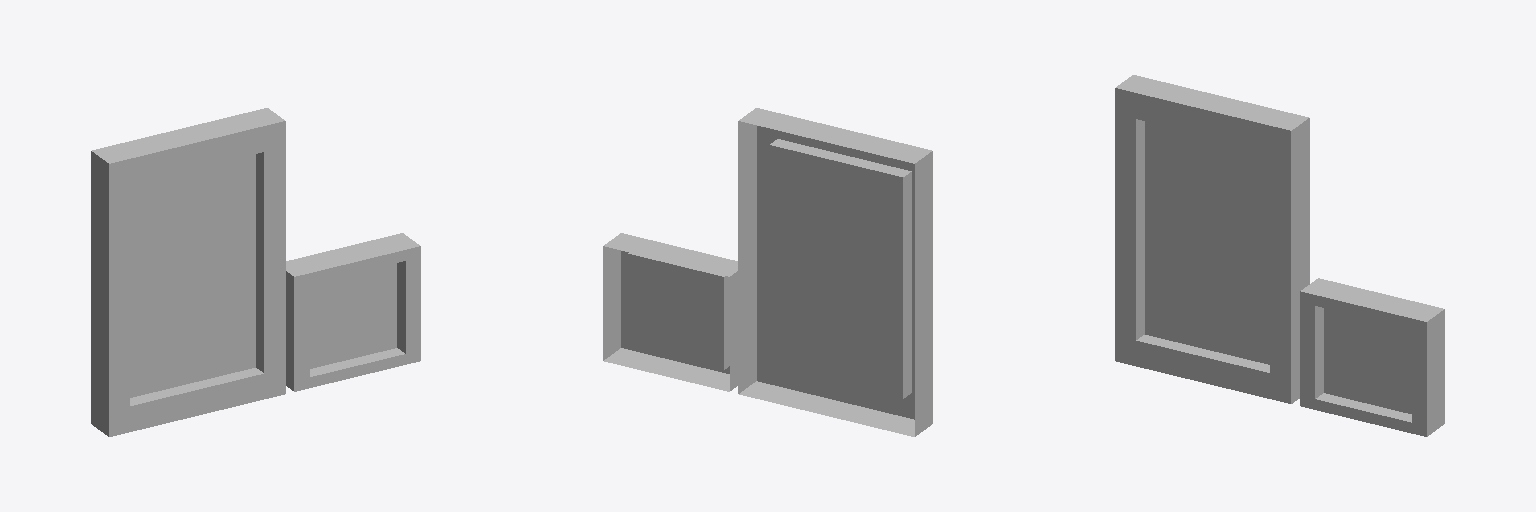
Rendered from shelves.obj.
3 renders of one model, left to right at view 1: azimuth 30°, elevation 25°; view 2: azimuth 150°, elevation 25°; view 3: azimuth 330°, elevation 25°, orthographic.
Parts seen in each view (by area): view 1: Cube.001, Cube.003; view 2: Cube.001, Cube.003; view 3: Cube.001, Cube.003.
Boxes of the visible parts, box(x1,y1,x2,y2) form: Cube.001: box(91, 108, 285, 436); Cube.003: box(286, 233, 420, 391); Cube.001: box(738, 108, 932, 436); Cube.003: box(603, 233, 737, 391); Cube.001: box(1115, 75, 1309, 403); Cube.003: box(1300, 278, 1444, 436).
Size of the model in its own units: 0.3822 by 0.3205 by 0.0385.